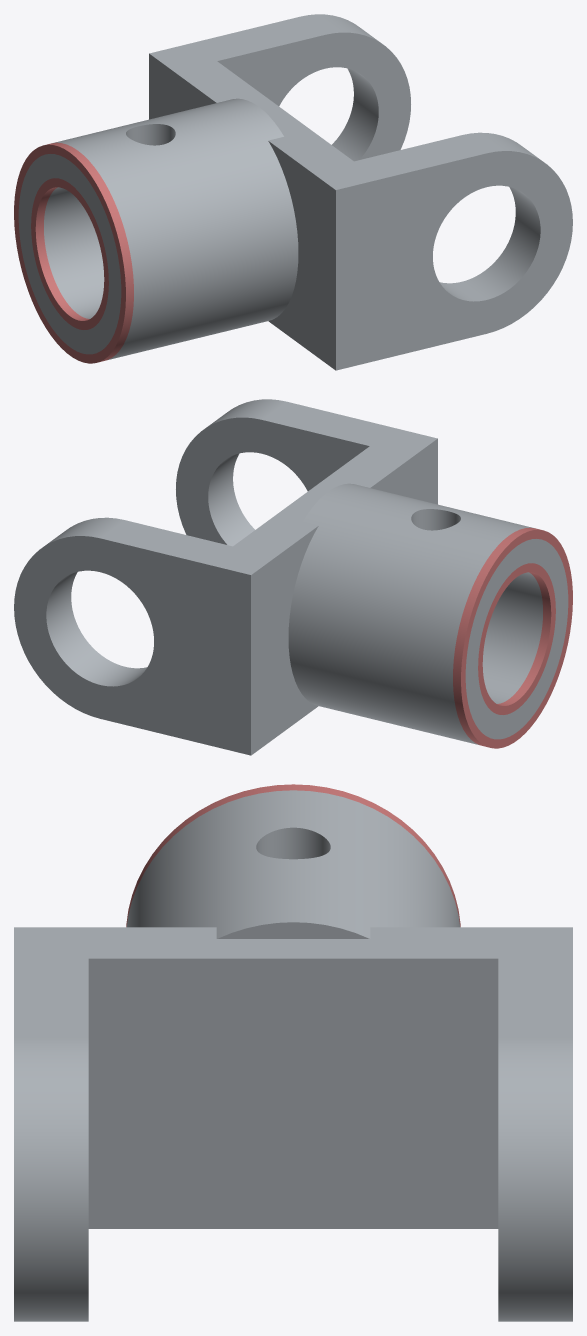
The model's file is step_06.glb.
3 renders of one model, top to bottom at view 1: azimuth 30°, elevation 25°; view 2: azimuth 150°, elevation 25°; view 3: azimuth 270°, elevation 25°, orthographic. The views are drawn at different scales.
Parts seen in each view (by area): view 1: part__input yoke, removed__input yoke; view 2: part__input yoke, removed__input yoke; view 3: part__input yoke, removed__input yoke.
Part boxes in pixels (x1,y1,x2,y2): part__input yoke: [18, 14, 572, 370]; removed__input yoke: [14, 142, 133, 363]; part__input yoke: [14, 399, 568, 755]; removed__input yoke: [453, 527, 572, 748]; part__input yoke: [14, 790, 572, 1321]; removed__input yoke: [126, 784, 460, 926].
Bounding box in the file's own units: 76 × 36 × 60.
